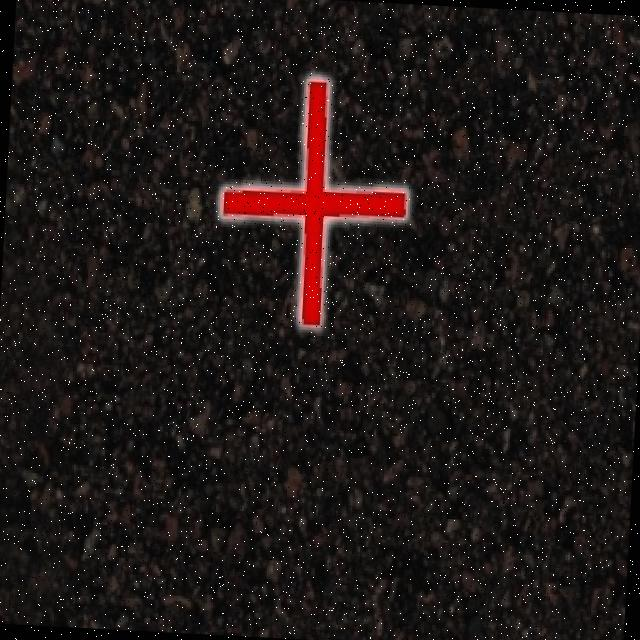x_marker: (215, 74, 412, 328)
